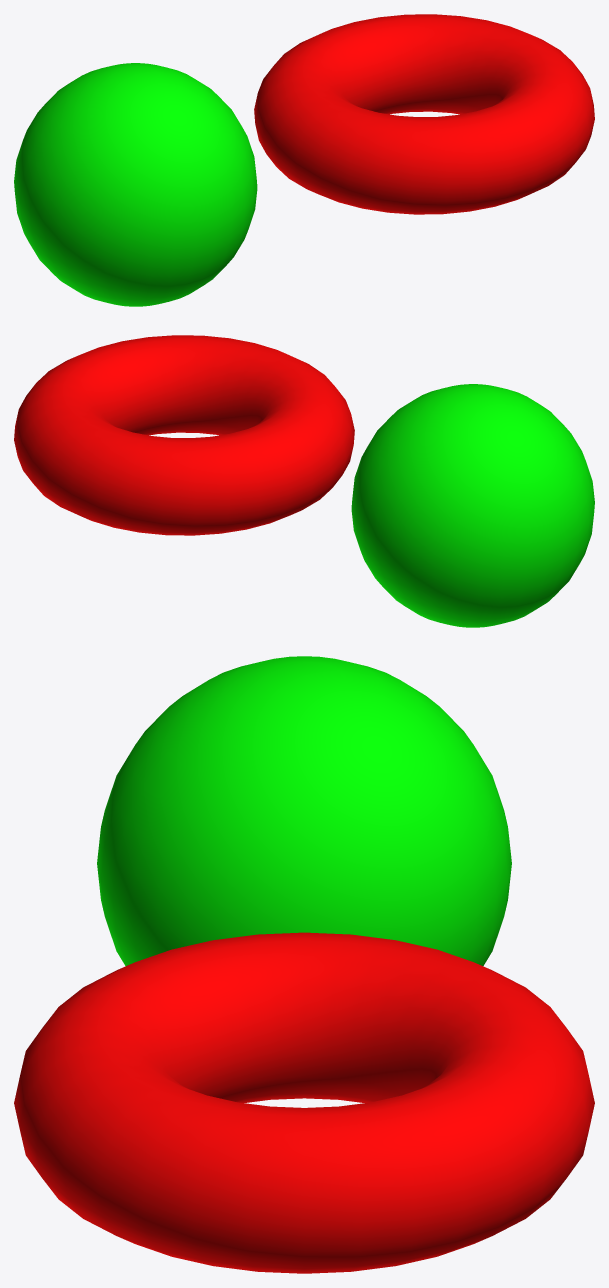
Rendered from ch_two.dae.
3 renders of one model, top to bottom at view 1: azimuth 30°, elevation 25°; view 2: azimuth 150°, elevation 25°; view 3: azimuth 270°, elevation 25°, orthographic. The views are drawn at different scales.
Visible parts, largest first — view 1: トーラス, 球体; view 2: トーラス, 球体; view 3: トーラス, 球体.
Boxes of the visible parts, x1,y1,x2,y2 form: トーラス: (254, 14, 594, 214); 球体: (14, 63, 257, 306); トーラス: (14, 335, 354, 535); 球体: (351, 384, 594, 627); トーラス: (14, 932, 594, 1273); 球体: (97, 656, 511, 965).
Bounding box in the file's own units: 1.28 × 0.5 × 0.7.
